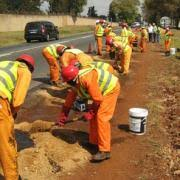hard hat: (16, 53, 35, 72), (60, 65, 78, 80), (55, 45, 66, 56), (69, 58, 78, 68), (105, 37, 112, 44), (99, 19, 105, 23)
high-vis: (79, 66, 119, 95), (1, 59, 17, 98), (91, 61, 112, 70), (46, 44, 59, 56), (118, 39, 128, 51), (96, 24, 104, 35)
